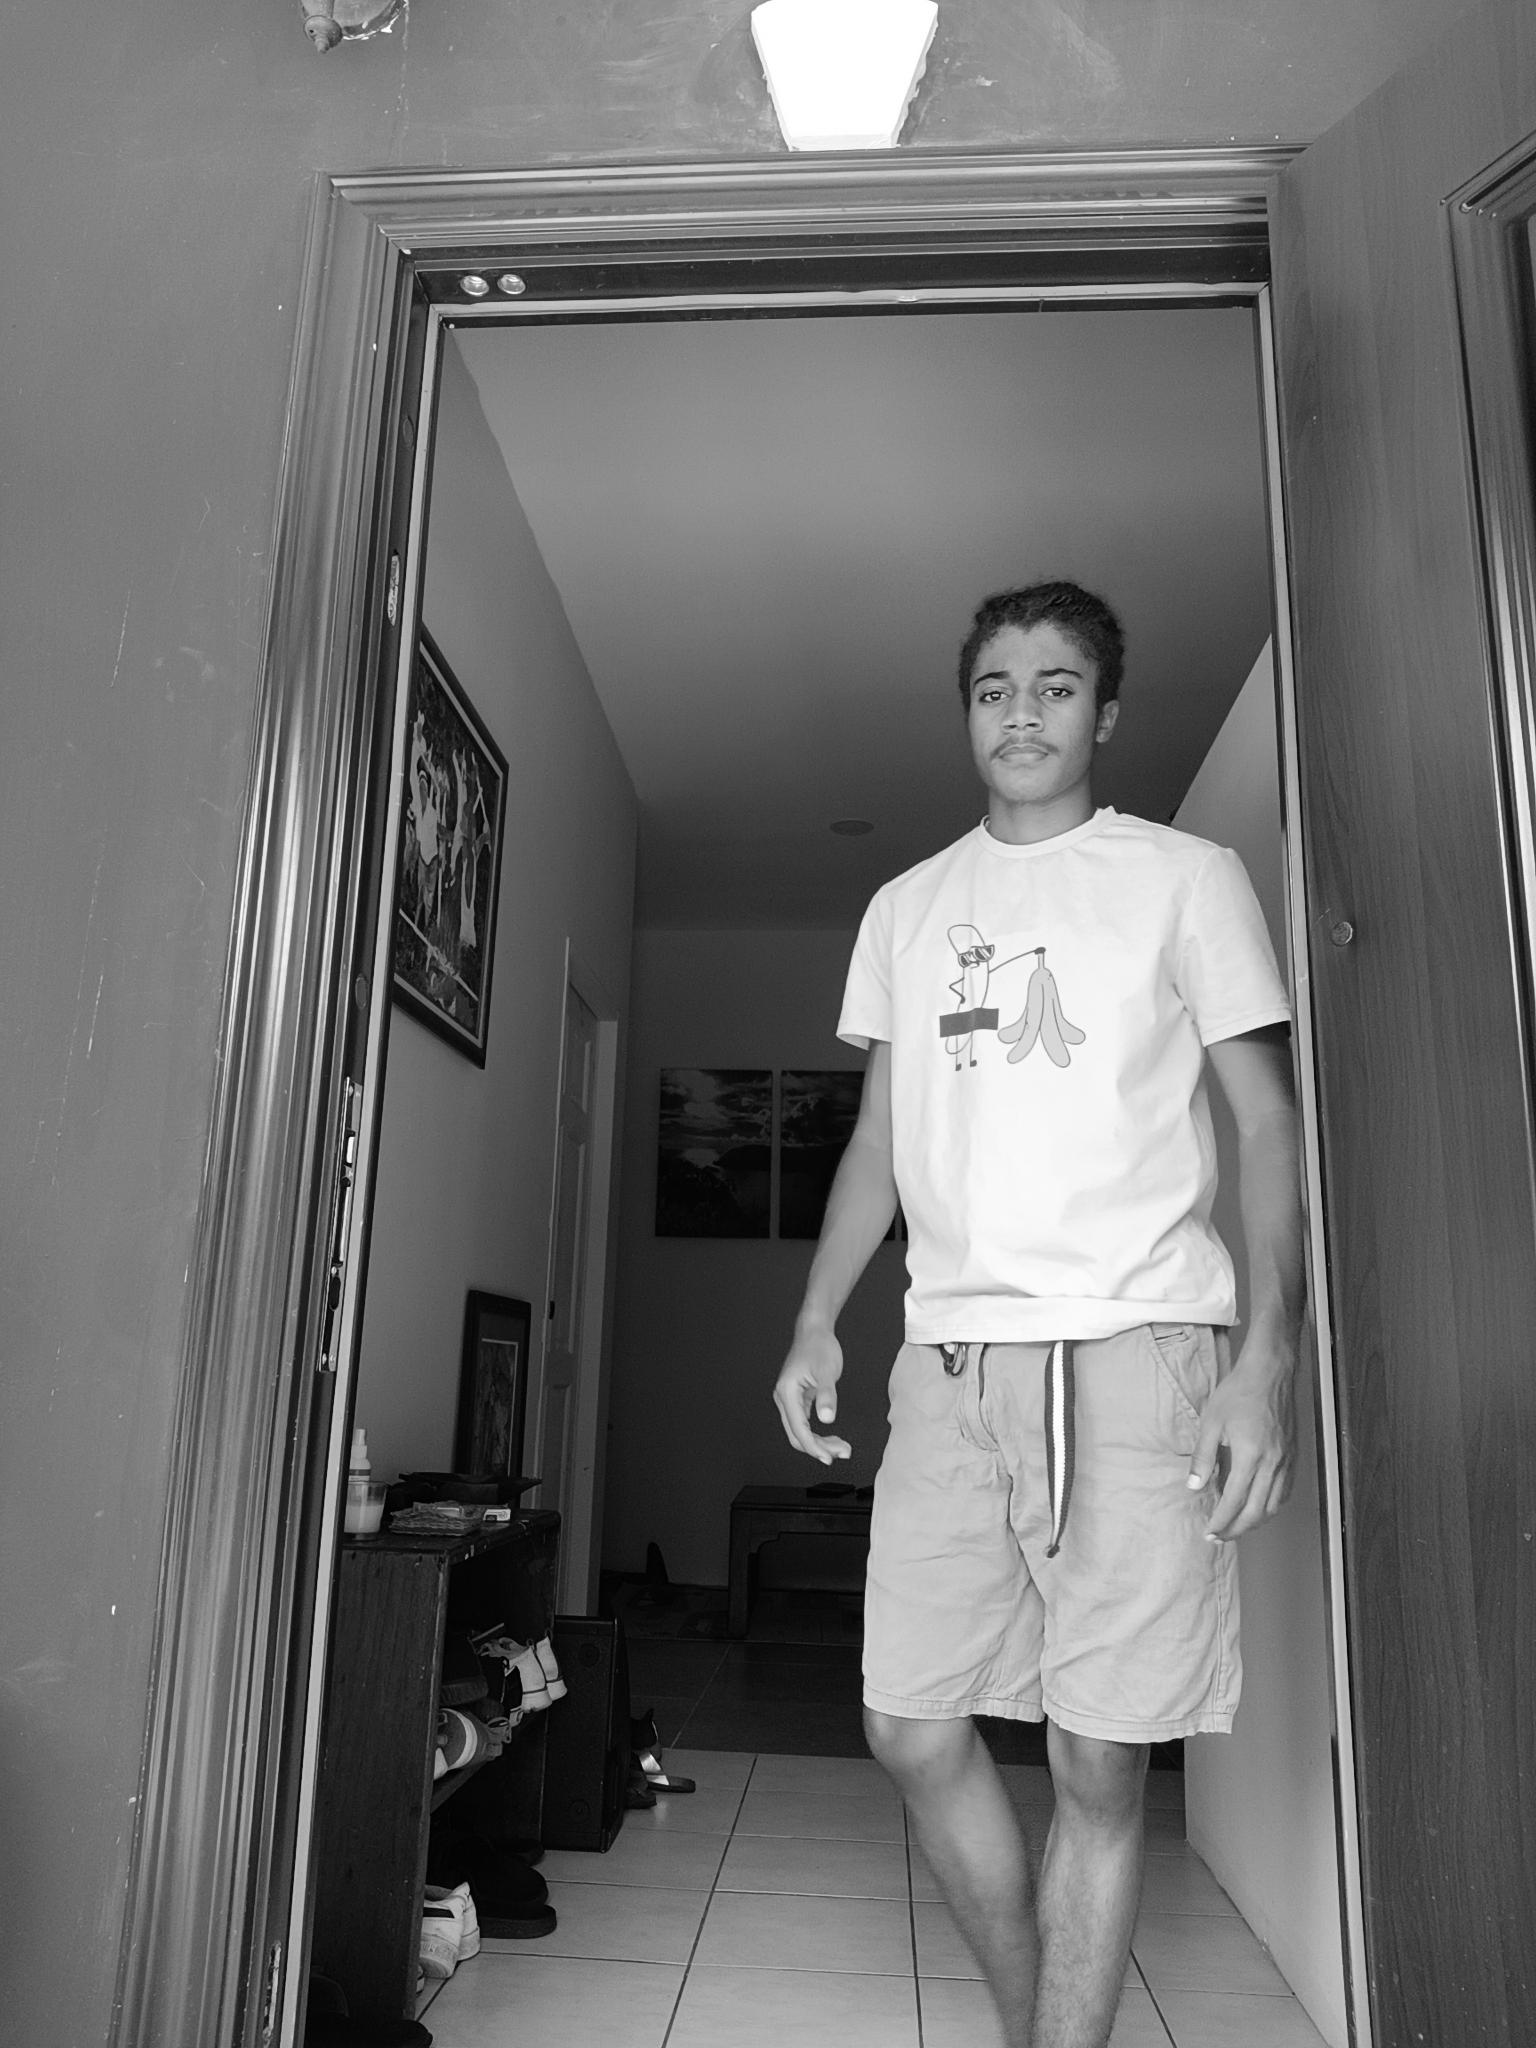front: (768, 574, 1310, 2040)
